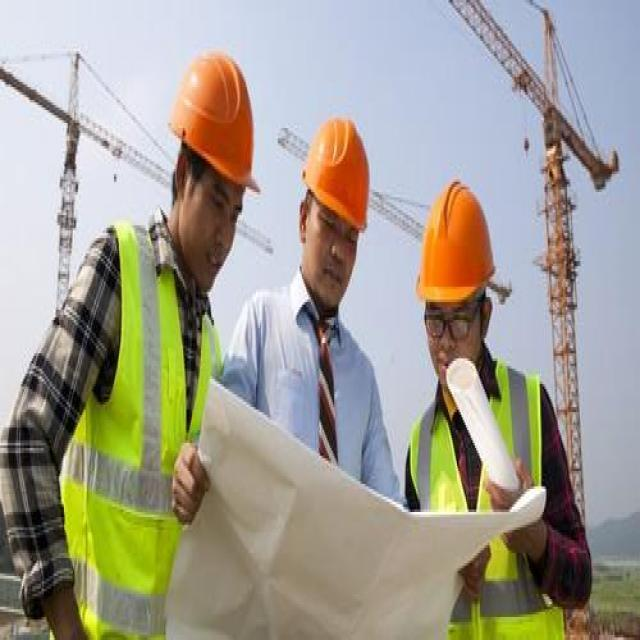reflective_jacket: (51, 217, 225, 639), (401, 355, 573, 639)
safety_helmet: (165, 41, 267, 205), (409, 169, 501, 322), (294, 102, 378, 245)
